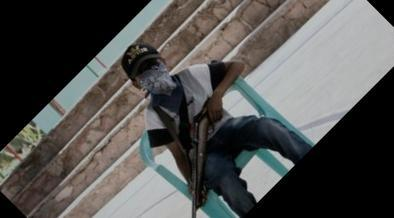larga: (192, 96, 215, 218)
